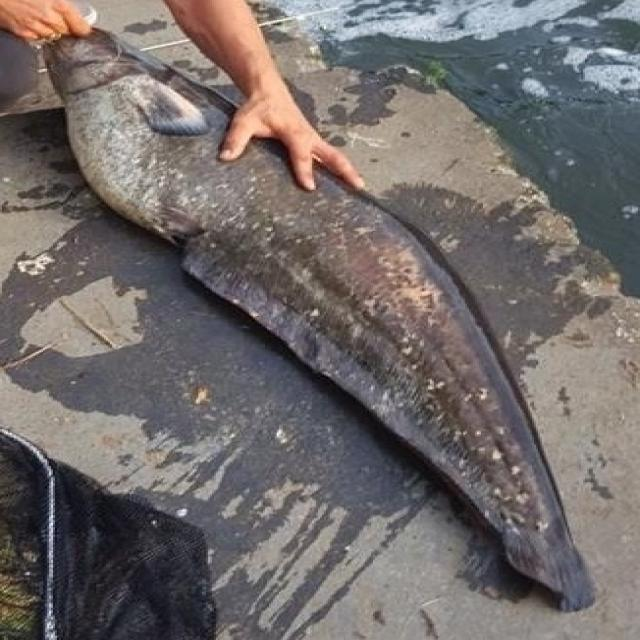Catfish: (25, 26, 640, 640)
